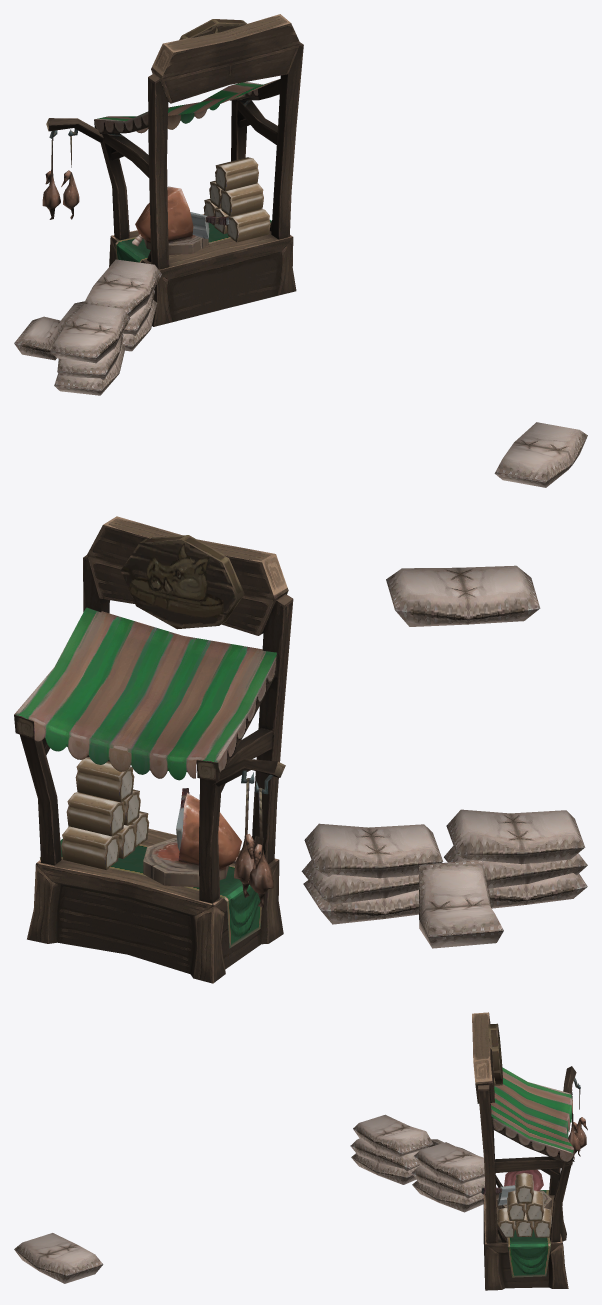
Rendered from object_market_items.fbx.
3 views of the same model, one above another, from view 1: azimuth 30°, elevation 25°; view 2: azimuth 150°, elevation 25°; view 3: azimuth 270°, elevation 25° (orthographic). The views are drawn at different scales.
Visible parts, largest first — view 1: object_market_items-0; view 2: object_market_items-0; view 3: object_market_items-0.
Part boxes in pixels (x1,y1,x2,y2): object_market_items-0: [14, 14, 587, 487]; object_market_items-0: [14, 516, 587, 983]; object_market_items-0: [14, 1012, 587, 1290].
Bounding box in the file's own units: 6.08 × 4.83 × 10.81.
